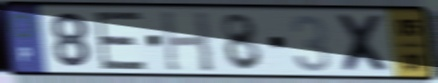3: (289, 13, 332, 73)
8: (221, 12, 266, 73), (49, 10, 93, 70)
E: (92, 10, 149, 72)
H: (158, 8, 216, 74)
X: (333, 12, 397, 75)
